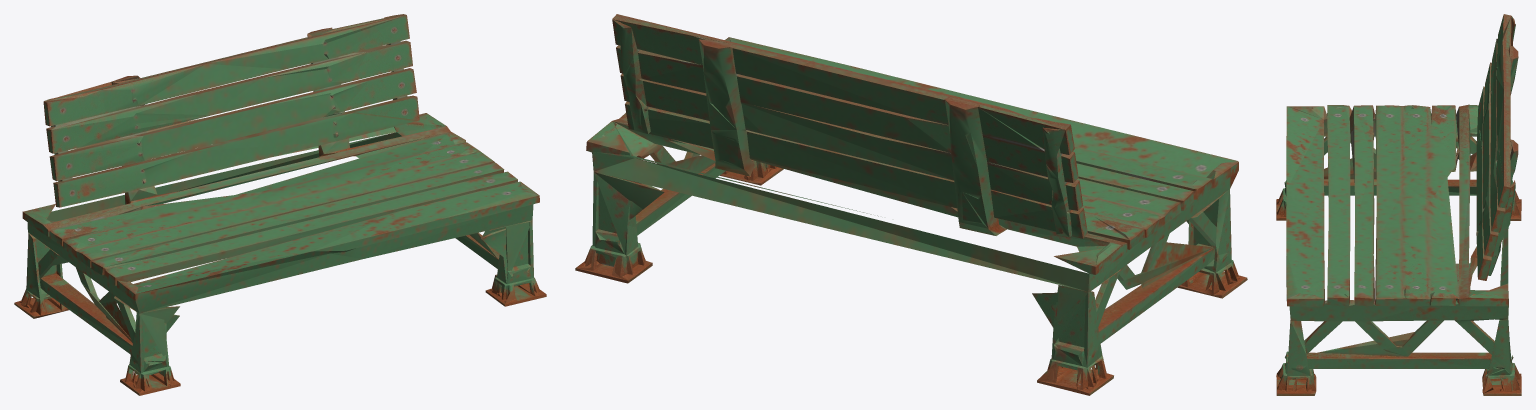
Rendered from Bench.glb.
3 views of the same model, side by side, from view 1: azimuth 30°, elevation 25°; view 2: azimuth 150°, elevation 25°; view 3: azimuth 270°, elevation 25° (orthographic). The views are drawn at different scales.
Bounding box in the file's own units: 1.9 × 0.9111 × 1.01.
Materials: 1 (1 with a texture image).
